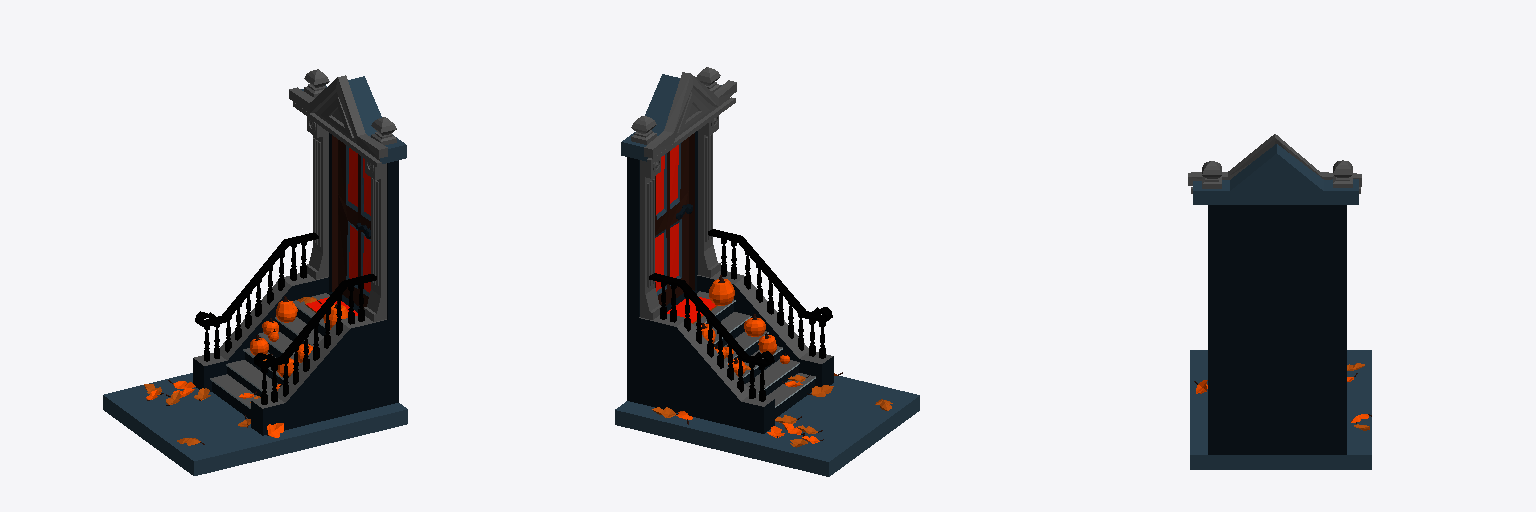
3 renders of one model, left to right at view 1: azimuth 30°, elevation 25°; view 2: azimuth 150°, elevation 25°; view 3: azimuth 270°, elevation 25°, orthographic.
Parts seen in each view (by area): view 1: group[number redacted], group[number redacted], group[number redacted], group[number redacted], group[number redacted], group[number redacted], group[number redacted], group[number redacted], group[number redacted], group[number redacted], group[number redacted], group[number redacted] (+4 smaller); view 2: group[number redacted], group[number redacted], group[number redacted], group[number redacted], group[number redacted], group[number redacted], group[number redacted], group[number redacted], group[number redacted], group[number redacted], group[number redacted], group[number redacted] (+6 smaller); view 3: group[number redacted], group[number redacted], group[number redacted], group[number redacted], group[number redacted].
Boxes of the visible parts, box(x1,y1,x2,y2) form: group[number redacted]: box(103, 373, 407, 475); group[number redacted]: box(251, 316, 387, 435); group[number redacted]: box(327, 133, 398, 404); group[number redacted]: box(210, 293, 329, 418); group[number redacted]: box(193, 273, 328, 391); group[number redacted]: box(289, 75, 387, 158); group[number redacted]: box(261, 284, 364, 404); group[number redacted]: box(364, 159, 386, 321); group[number redacted]: box(301, 76, 406, 163); group[number redacted]: box(204, 242, 306, 361); group[number redacted]: box(306, 117, 328, 279); group[number redacted]: box(195, 232, 318, 327); group[number redacted]: box(615, 376, 919, 476); group[number redacted]: box(639, 314, 774, 433); group[number redacted]: box(627, 131, 698, 403); group[number redacted]: box(693, 291, 815, 418); group[number redacted]: box(697, 271, 833, 386); group[number redacted]: box(644, 72, 736, 158); group[number redacted]: box(621, 74, 729, 161); group[number redacted]: box(721, 239, 825, 358); group[number redacted]: box(660, 283, 765, 401); group[number redacted]: box(640, 158, 661, 319); group[number redacted]: box(698, 117, 720, 277); group[number redacted]: box(649, 273, 774, 366); group[number redacted]: box(1208, 205, 1346, 454); group[number redacted]: box(1190, 350, 1371, 469); group[number redacted]: box(1193, 144, 1358, 204); group[number redacted]: box(1188, 134, 1361, 186); group[number redacted]: box(1202, 161, 1221, 188).
Bounding box in the file's own units: 1.49 × 2.15 × 1.11.